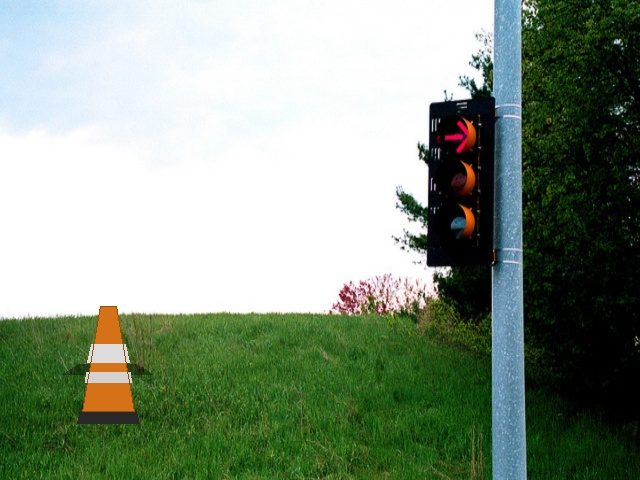traffic-cone: (77, 306, 139, 423)
